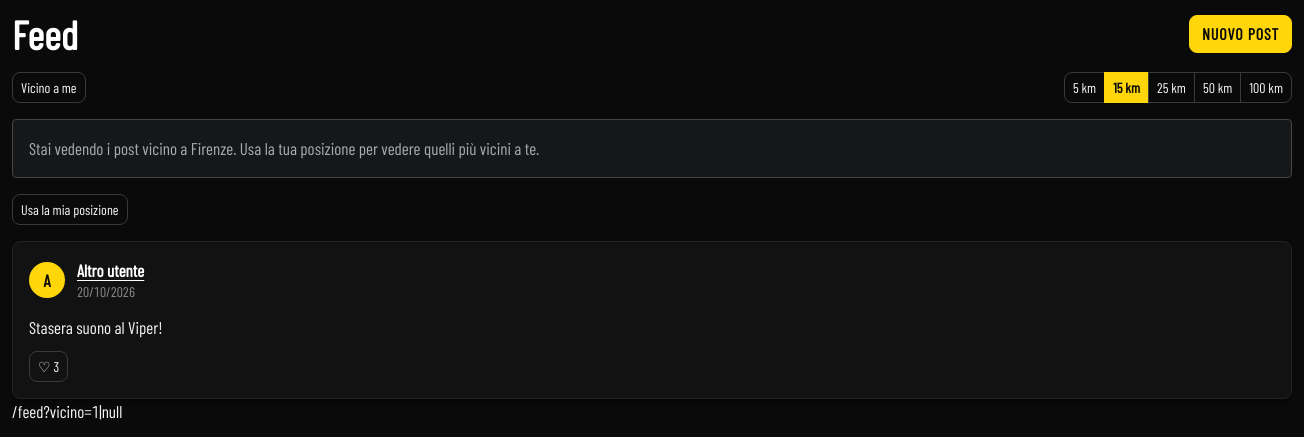
FeedPage · filtro «vicino a me» › «Usa la mia posizione» cambia il centro con quello del browser
The width and height of the screenshot is (1304, 437).
Click the button "Usa la mia posizione" at (70, 209), box [12,194,128,225]
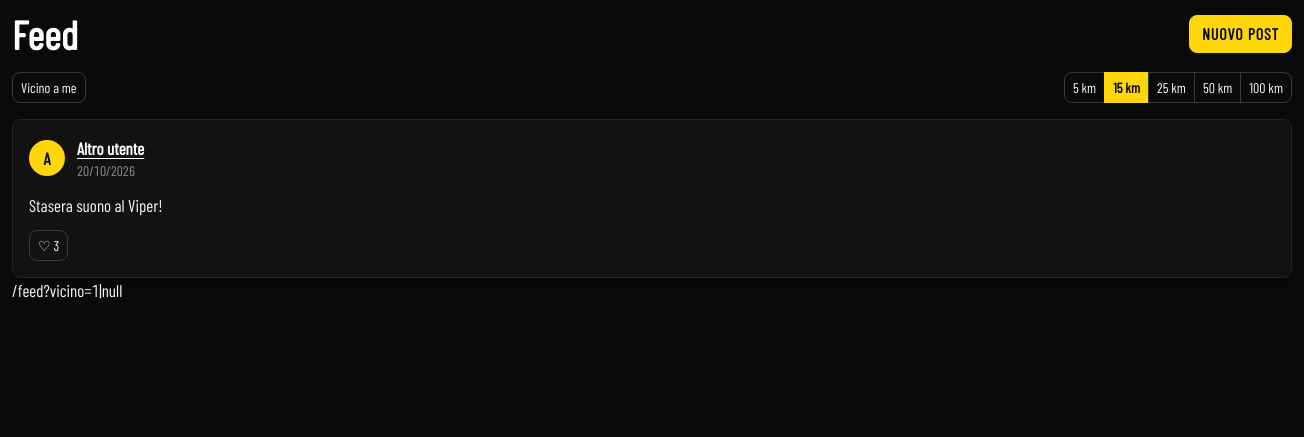
Check: the text "vicino a Firenze" is gone
